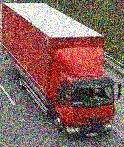truck: (1, 3, 121, 137)
